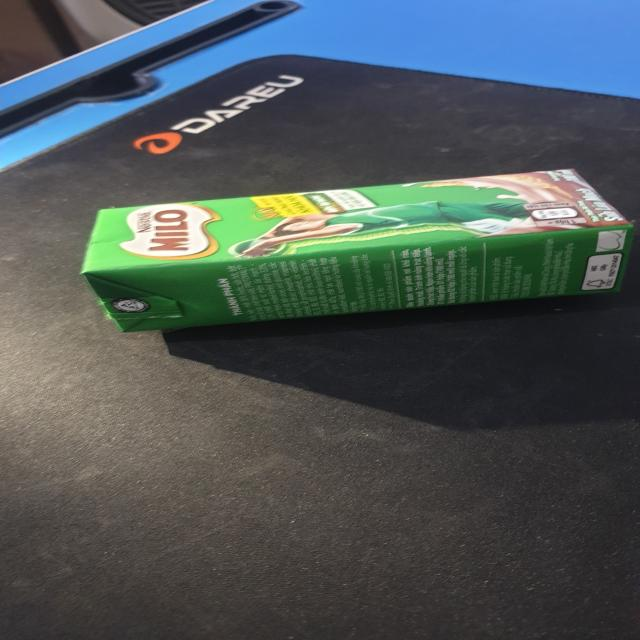Milo: (86, 166, 630, 334)
